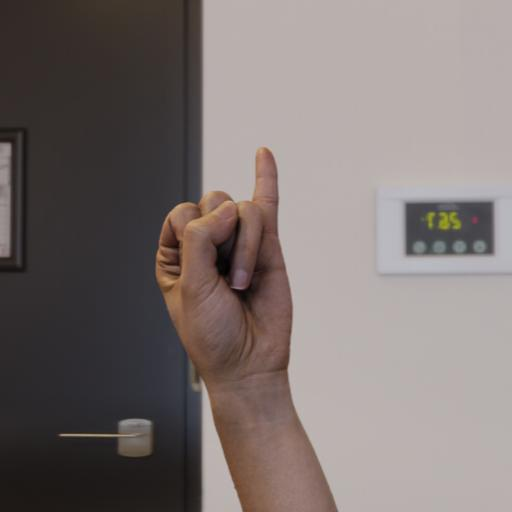I: (139, 131, 330, 512)
